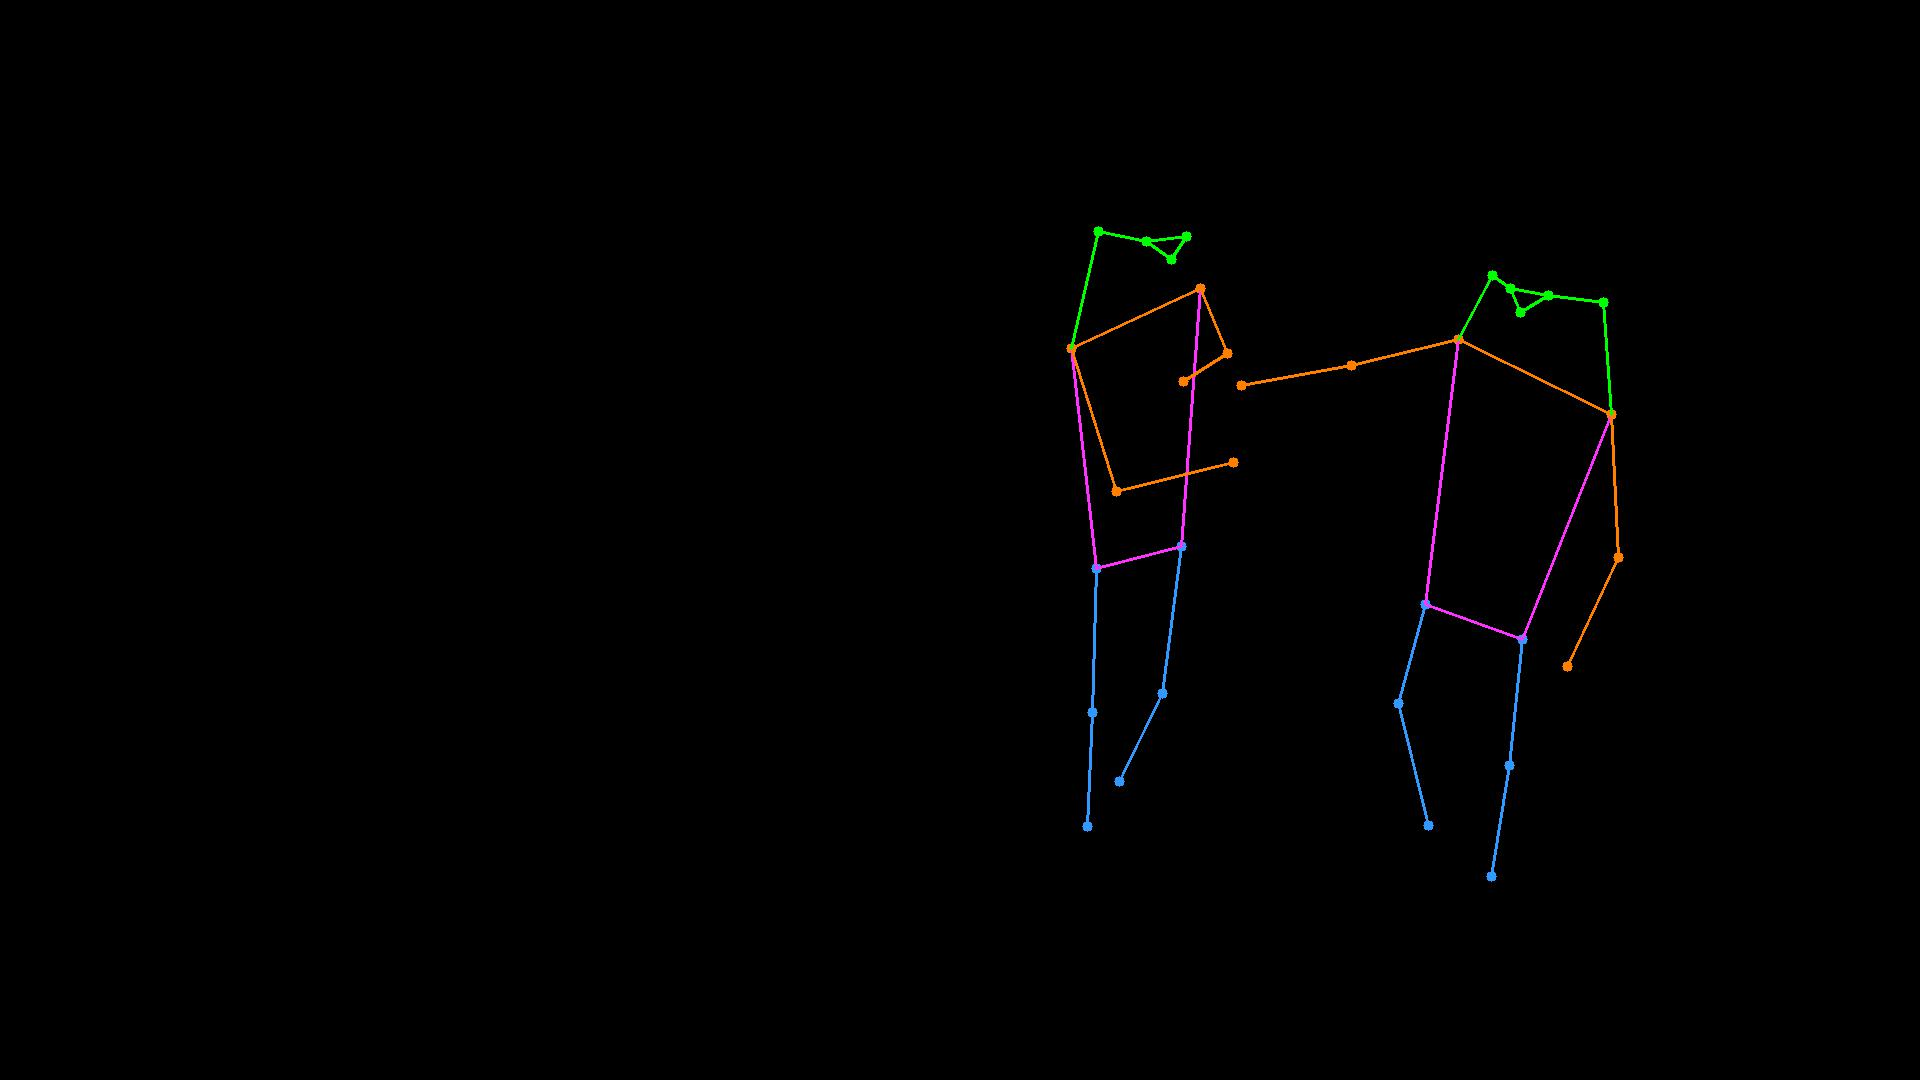normal: (1007, 181, 1698, 922)
